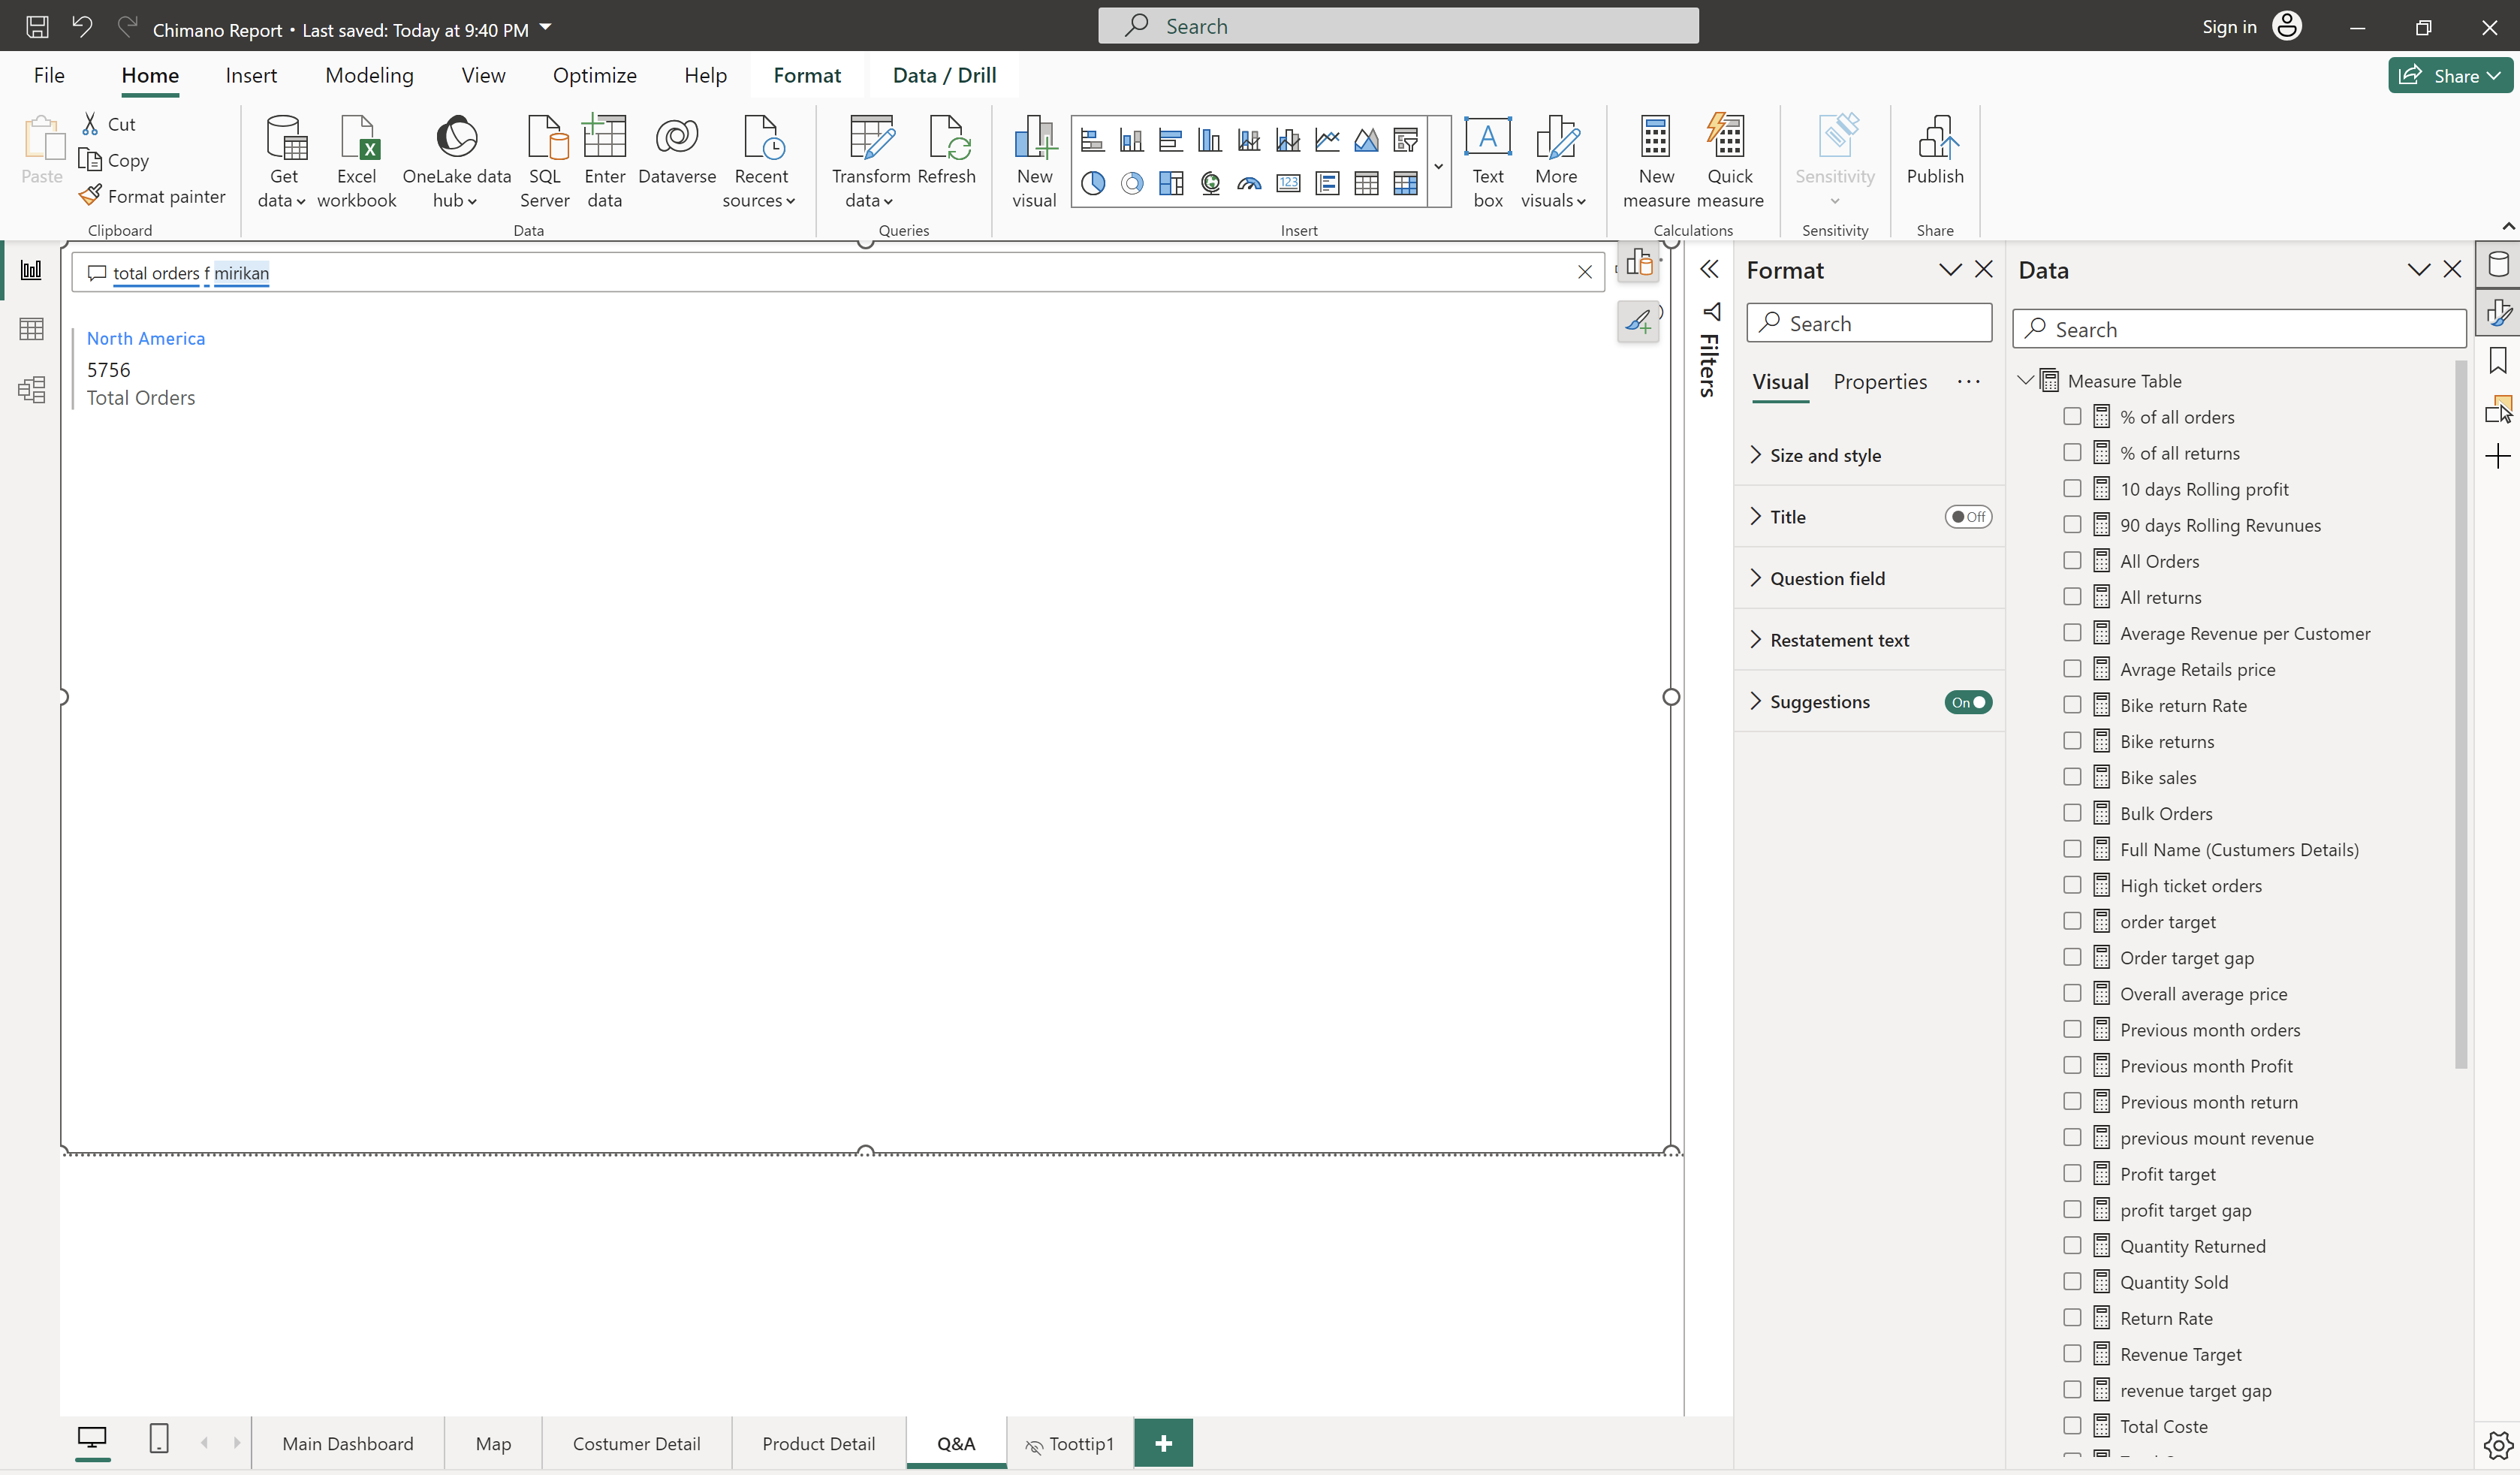

The dashboard page shown, as its layout file describes it:
{"tool":"powerbi","page":{"name":"Q&A","canvas":[1280,720],"ordinal":5},"visuals":[{"type":"qnaVisual","box":[0,0,1270,720],"z":0}]}

Visuals, with their boxes on the page's 1280x720 design canvas (x1, y1, x2, y2). These are canvas units, not pixel positions in the 2520x1475 screenshot, which may show the page scaled, cropped or inside an application window:
qnaVisual: <region>0, 0, 1270, 720</region>
